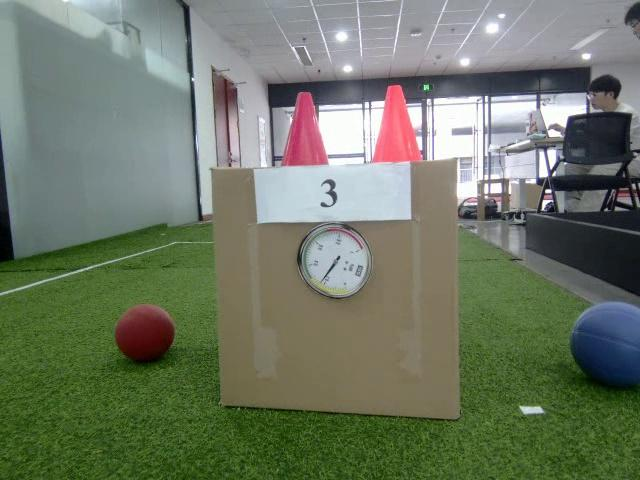3: (318, 177, 339, 209)
Dashboard: (297, 224, 373, 299)
blue_ball: (563, 301, 640, 389)
orange_barrel: (370, 84, 427, 163)
red_ball: (115, 304, 176, 363)
red_barrel: (278, 90, 334, 166)
ssi: (355, 263, 363, 278)
